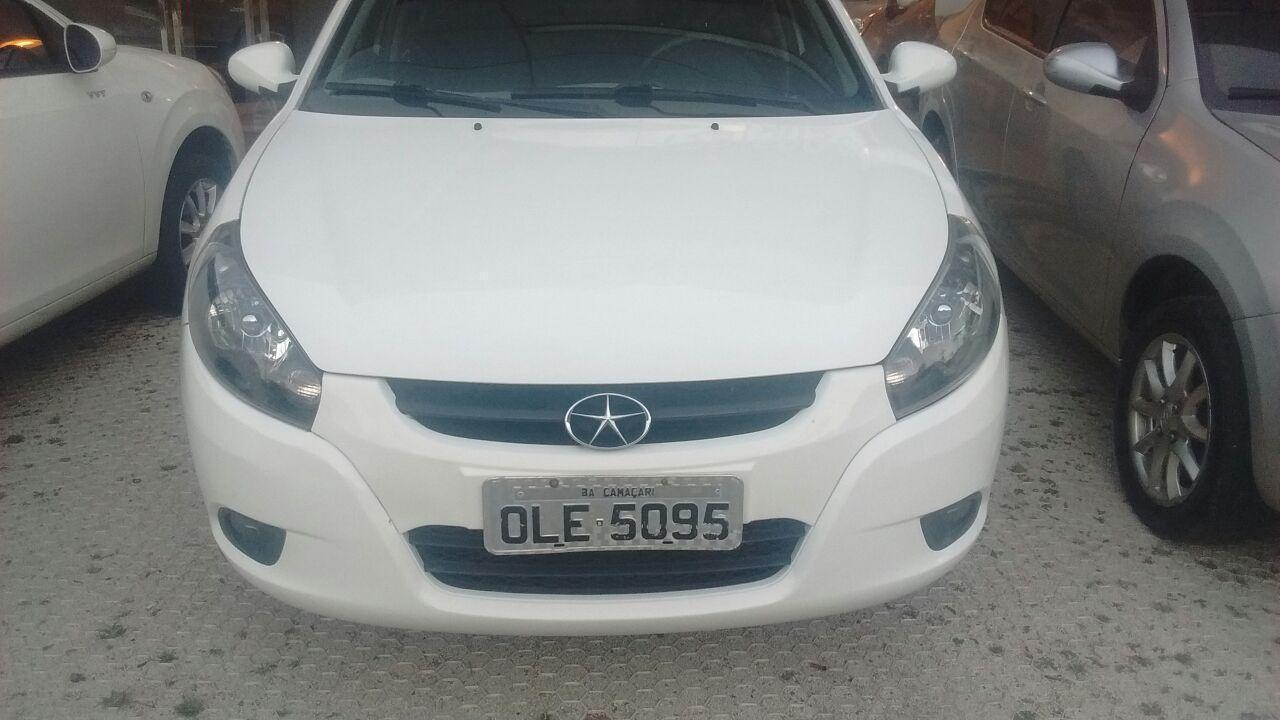placa de veiculo: (468, 464, 775, 580)
